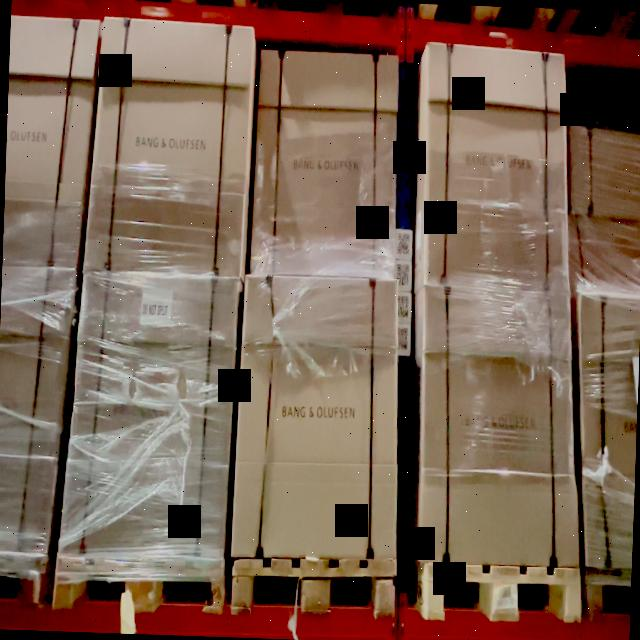box: (237, 276, 396, 558), (74, 283, 233, 558), (420, 298, 573, 564), (98, 15, 246, 279), (422, 45, 568, 288), (253, 51, 399, 276)
